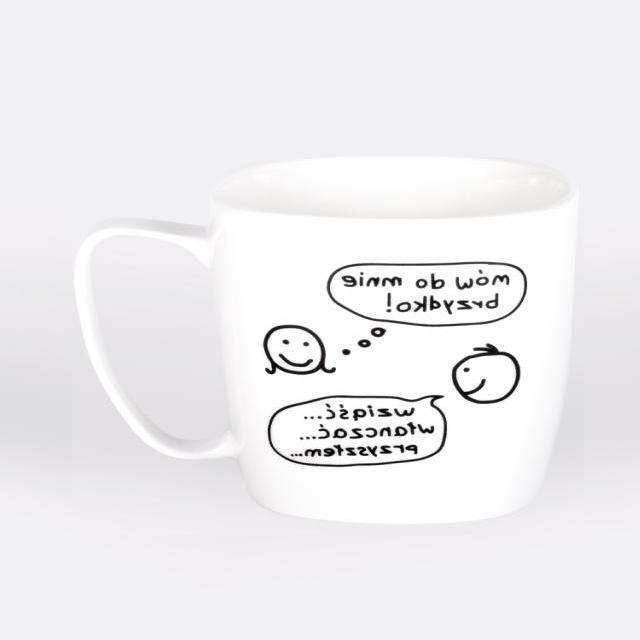Coffee Mug: (74, 152, 581, 523)
